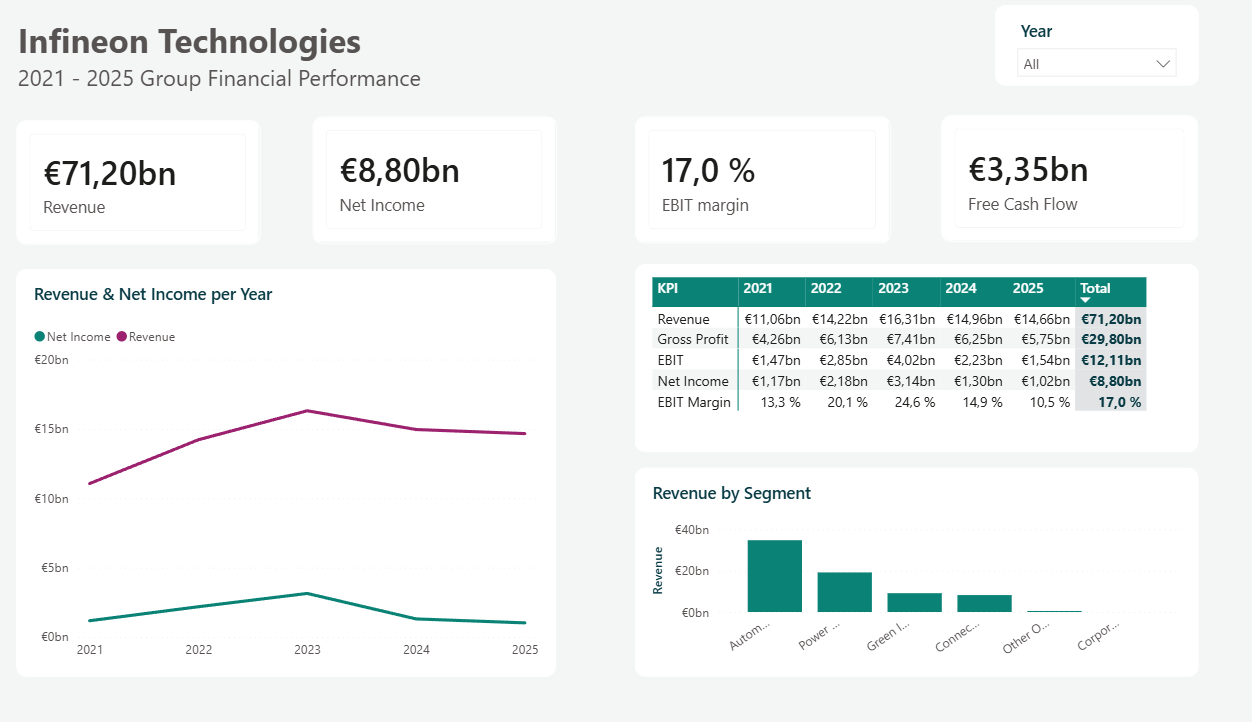

Layout of this report page (visuals, bound fields, positions):
{"tool":"powerbi","page":{"name":"Overview ","canvas":[1280,720],"ordinal":0},"visuals":[{"type":"textbox","box":[64.3,11.4,994.9,100.2],"z":0},{"type":"slicer","fields":{"Values":["Référence Date.Year"]},"box":[1022.9,11.4,196.7,77.8],"z":1000},{"type":"cardVisual","fields":{"Data":["P&L.Revenue"]},"box":[78.6,121.4,235.7,120],"z":3000},{"type":"cardVisual","fields":{"Data":["P&L.Net Income"]},"box":[364.3,118.6,235.7,122.9],"z":4000},{"type":"cardVisual","fields":{"Data":["Key numbers.EBIT margin"]},"box":[675.7,118.6,247,122.1],"z":5000},{"type":"cardVisual","fields":{"Data":["Cash Flow Statement.Free Cash Flow"]},"box":[971.4,117.1,248.4,122.1],"z":6000},{"type":"lineChart","title":"Revenue & Net Income per Year","fields":{"Category":["P&L.Year"],"Y":["P&L.Net Income","P&L.Revenue"]},"box":[78.6,265.7,521.1,393.3],"z":7000},{"type":"clusteredColumnChart","title":"Revenue by Segment","fields":{"Category":["Segment.Segment"],"Y":["Segment.Revenue by Segment"]},"box":[675.7,457.1,544.3,201.4],"z":8000},{"type":"pivotTable","fields":{"Columns":["Référence Date.Year"],"Rows":["Financial KPI.KPI"],"Values":["Financial KPI.KPI Value"]},"box":[675.7,260,544.3,181.4],"z":9000}]}

Visuals, with their boxes in screenshot pixels (x1, y1, x2, y2), scaled from the page's 1280x720 canvas onto the 1252x722 screenshot:
textbox: Rect(63, 11, 1036, 112)
slicer - Référence Date.Year: Rect(1001, 11, 1193, 89)
cardVisual - P&L.Revenue: Rect(77, 122, 307, 242)
cardVisual - P&L.Net Income: Rect(356, 119, 587, 242)
cardVisual - Key numbers.EBIT margin: Rect(661, 119, 903, 241)
cardVisual - Cash Flow Statement.Free Cash Flow: Rect(950, 117, 1193, 240)
"Revenue & Net Income per Year" lineChart: Rect(77, 266, 587, 661)
"Revenue by Segment" clusteredColumnChart: Rect(661, 458, 1193, 660)
pivotTable - Référence Date.Year x Financial KPI.KPI: Rect(661, 261, 1193, 443)
